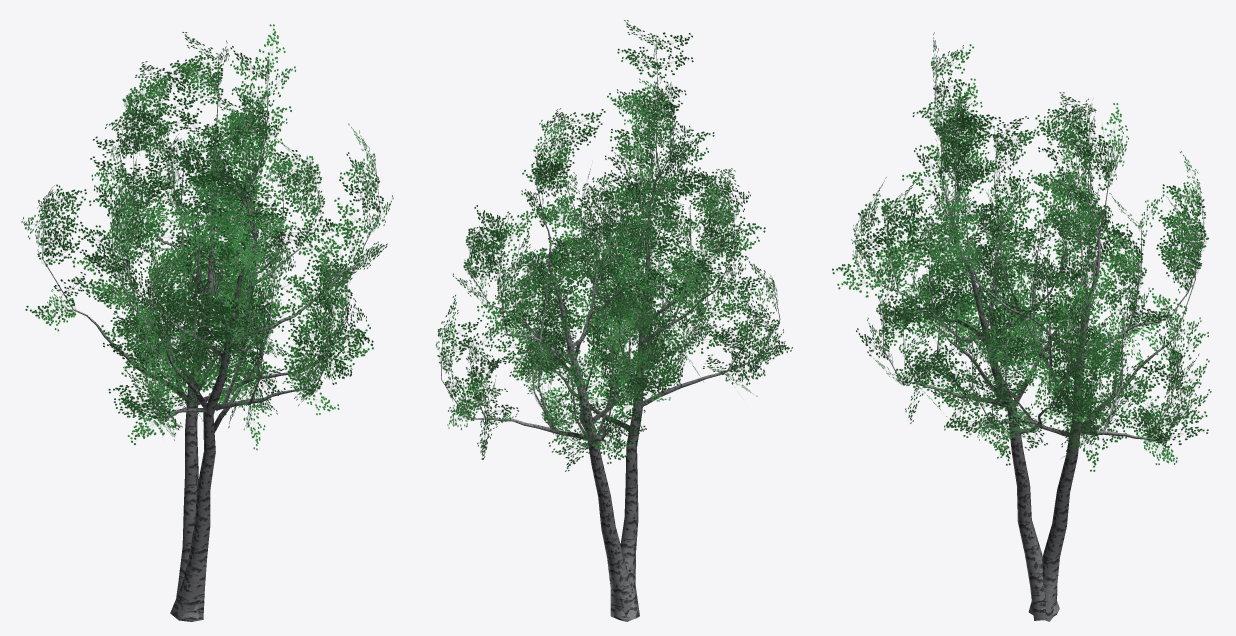
Rendered from arbre_bouleau4.glb.
The picture shows the model from 3 angles, left to right: view 1: azimuth 30°, elevation 25°; view 2: azimuth 150°, elevation 25°; view 3: azimuth 270°, elevation 25°; orthographic projection. The views are drawn at different scales.
Visible parts, largest first — view 1: arbre_bouleau4; view 2: arbre_bouleau4; view 3: arbre_bouleau4.
Part boxes in pixels (x1,y1,x2,y2): arbre_bouleau4: [21, 24, 393, 621]; arbre_bouleau4: [435, 20, 792, 621]; arbre_bouleau4: [832, 32, 1211, 621].
Bounding box in the file's own units: 7.6 × 14.58 × 8.67.
Materials: 2 (2 with a texture image).
